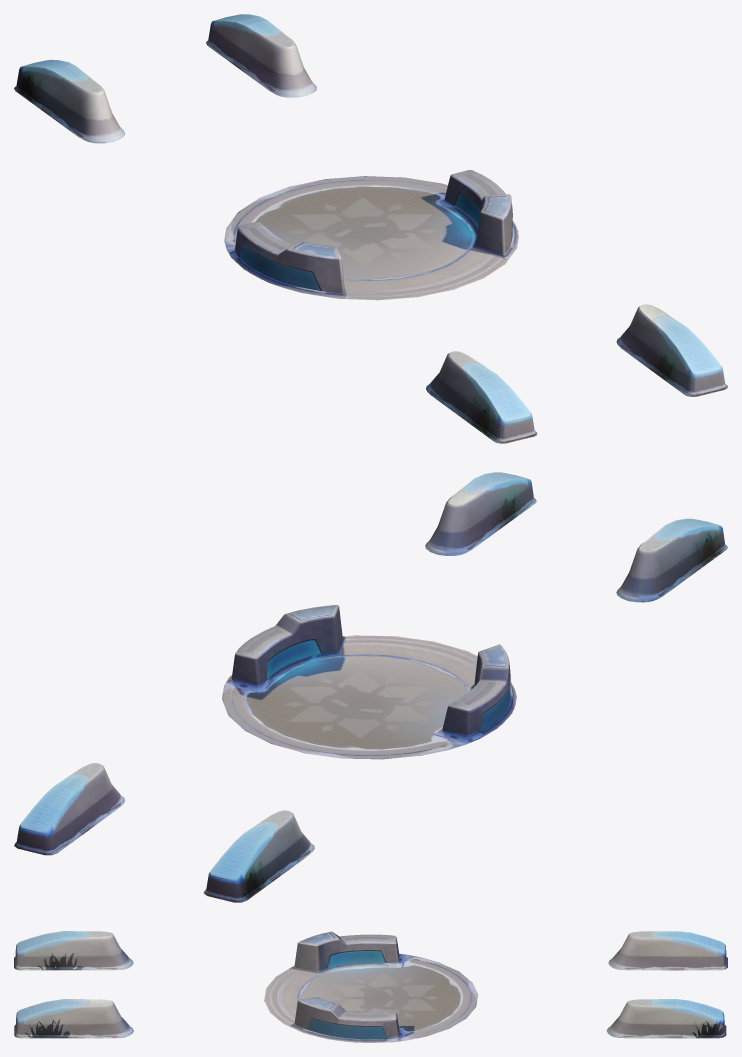
The model's file is pref_sm_beach_winter_bakegroups05_lv0.fbx.
The picture shows the model from 3 angles, top to bottom: view 1: azimuth 30°, elevation 25°; view 2: azimuth 150°, elevation 25°; view 3: azimuth 270°, elevation 25°; orthographic projection. The views are drawn at different scales.
Parts seen in each view (by area): view 1: sm_beach_winter_bakegroups05_b_lv0, sm_beach_winter_bakegroups05_a_lv0, sm_beach_winter_bakegroups05_c_lv0; view 2: sm_beach_winter_bakegroups05_b_lv0, sm_beach_winter_bakegroups05_c_lv0, sm_beach_winter_bakegroups05_a_lv0; view 3: sm_beach_winter_bakegroups05_b_lv0, sm_beach_winter_bakegroups05_c_lv0, sm_beach_winter_bakegroups05_a_lv0.
Part boxes in pixels (x1,y1,x2,y2): sm_beach_winter_bakegroups05_b_lv0: [224, 170, 518, 300]; sm_beach_winter_bakegroups05_a_lv0: [426, 304, 727, 443]; sm_beach_winter_bakegroups05_c_lv0: [14, 14, 316, 143]; sm_beach_winter_bakegroups05_b_lv0: [222, 605, 516, 759]; sm_beach_winter_bakegroups05_c_lv0: [14, 763, 314, 902]; sm_beach_winter_bakegroups05_a_lv0: [425, 472, 727, 602]; sm_beach_winter_bakegroups05_b_lv0: [264, 931, 478, 1042]; sm_beach_winter_bakegroups05_c_lv0: [606, 931, 727, 1038]; sm_beach_winter_bakegroups05_a_lv0: [14, 931, 133, 1038].
Size of the model in its own units: 12.34 by 1.85 by 40.98.
1 material, 1 textured.
